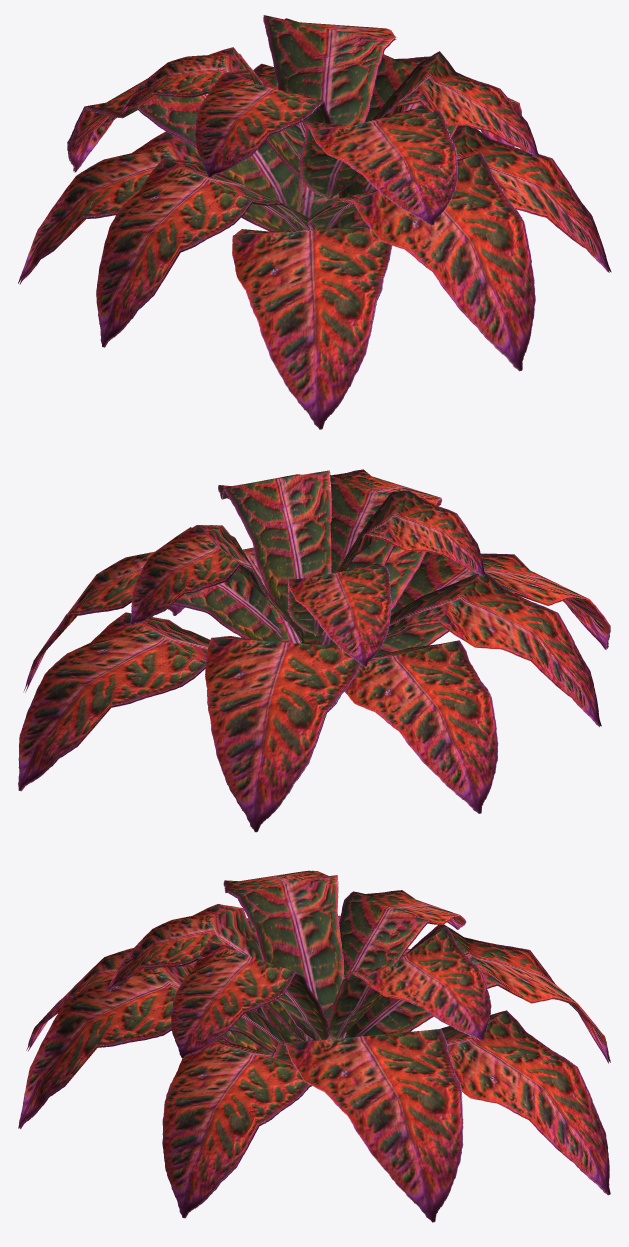
File: cactusPlantNew.fbx
The picture shows the model from 3 angles, top to bottom: view 1: azimuth 30°, elevation 25°; view 2: azimuth 150°, elevation 25°; view 3: azimuth 270°, elevation 25°; orthographic projection. The views are drawn at different scales.
Parts seen in each view (by area): view 1: Croton_Leaves_Red; view 2: Croton_Leaves_Red; view 3: Croton_Leaves_Red.
Boxes of the visible parts, box(x1,y1,x2,y2) form: Croton_Leaves_Red: box(18, 15, 611, 429); Croton_Leaves_Red: box(18, 469, 610, 832); Croton_Leaves_Red: box(18, 870, 610, 1222).
Bounding box in the file's own units: 299 × 127 × 321.
